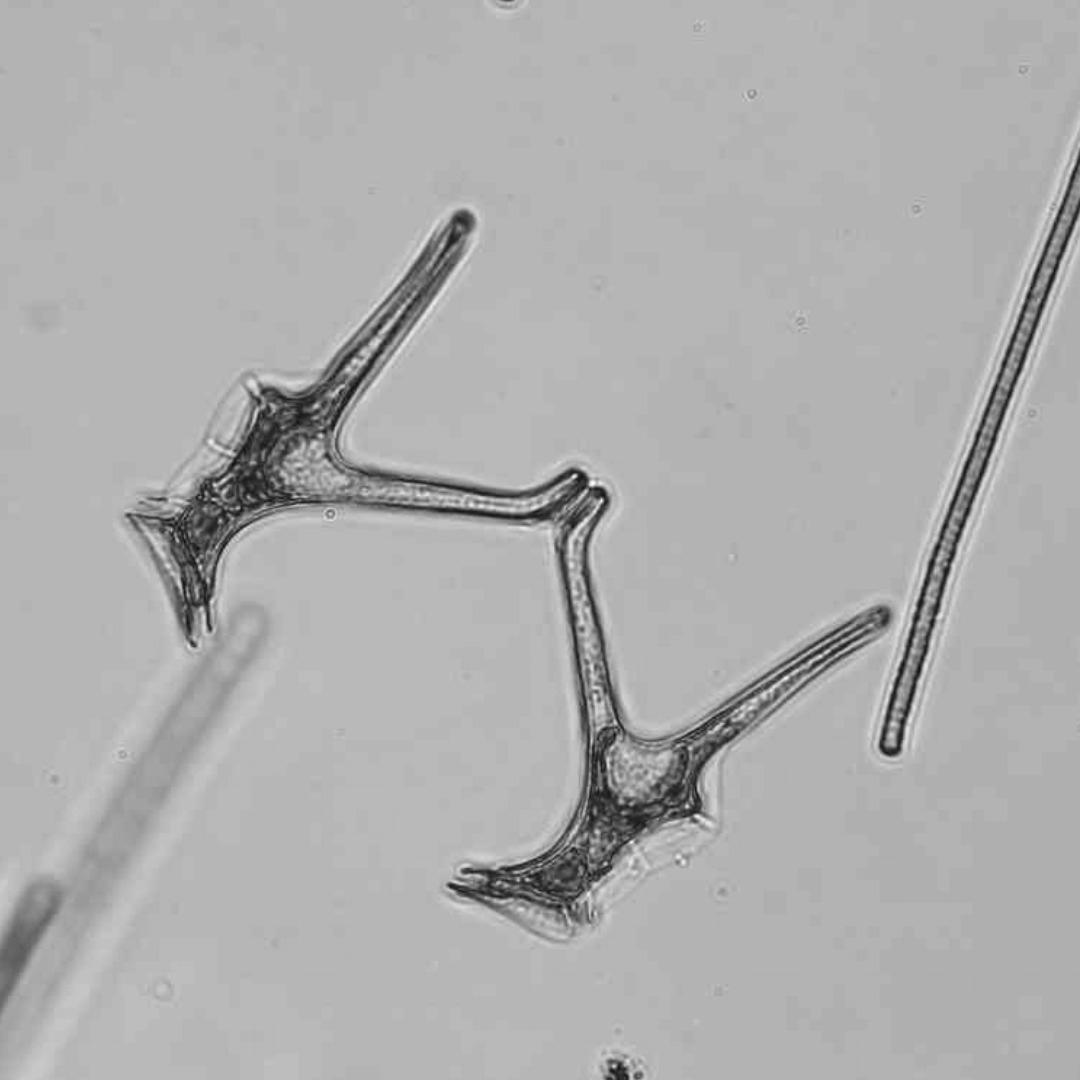dinophysis_miles: (129, 209, 582, 647), (452, 492, 883, 937)
